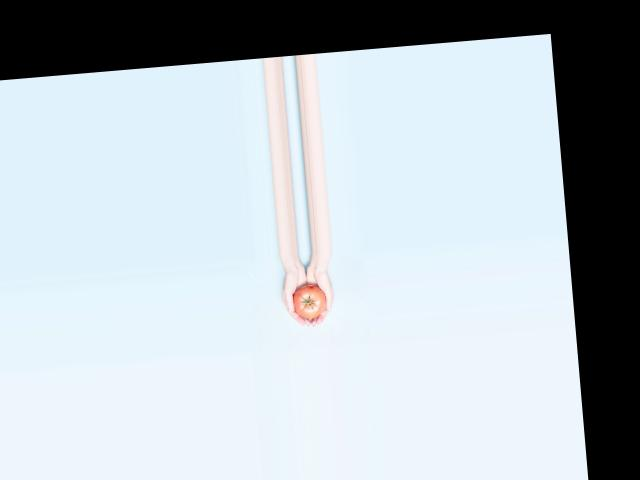tomato: (290, 283, 326, 319)
